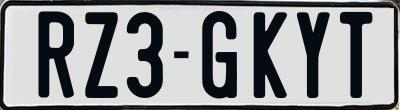3: (126, 10, 167, 97)
G: (202, 11, 238, 99)
K: (251, 10, 288, 100)
R: (36, 11, 78, 100)
T: (338, 12, 372, 98)
Y: (295, 11, 334, 98)
Z: (85, 9, 122, 100)
